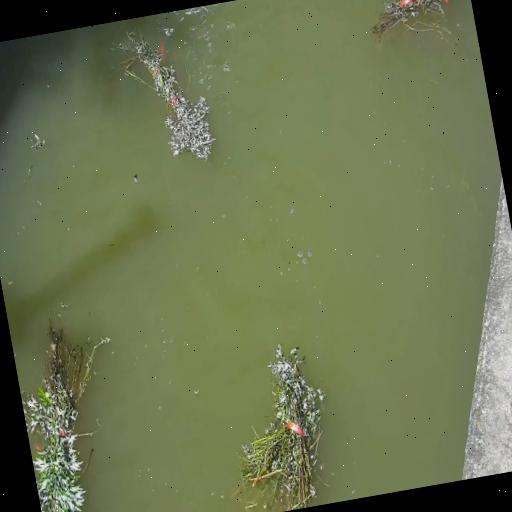twig: (7, 300, 142, 512), (213, 333, 343, 512), (108, 12, 219, 172), (360, 0, 475, 54)
